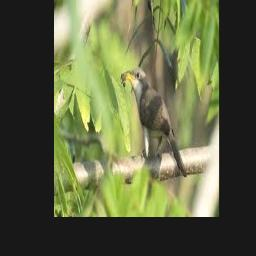Cuckoo: (122, 68, 187, 177)
